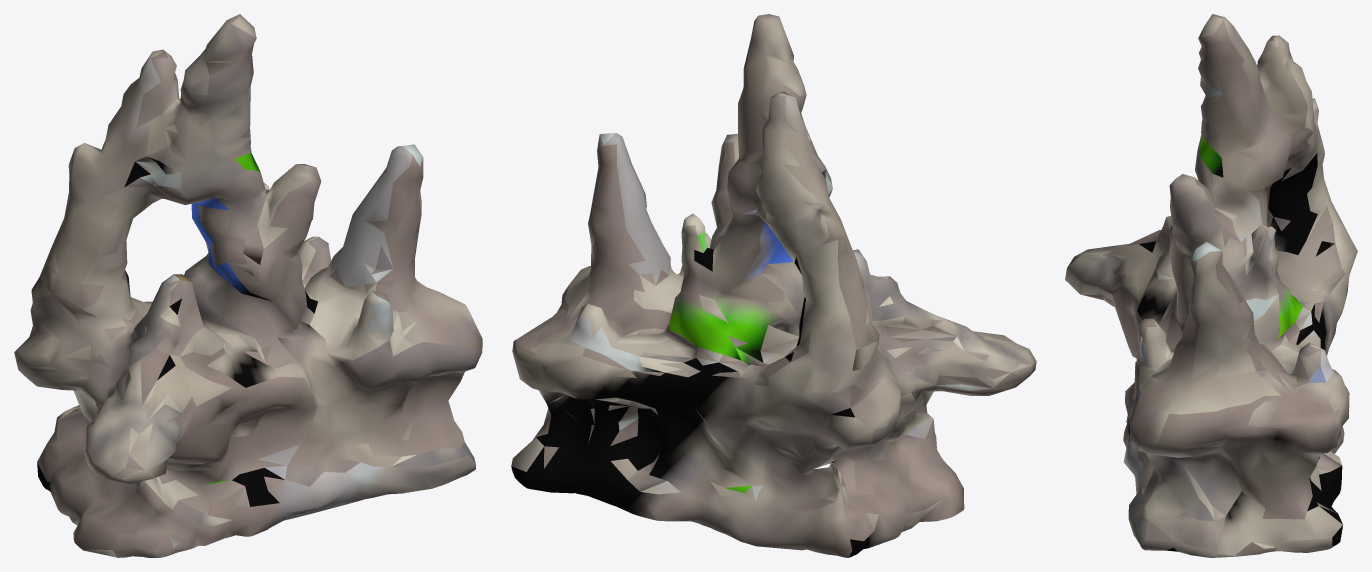
Rendered from Structure-9.fbx.
The picture shows the model from 3 angles, left to right: view 1: azimuth 30°, elevation 25°; view 2: azimuth 150°, elevation 25°; view 3: azimuth 270°, elevation 25°; orthographic projection. The views are drawn at different scales.
Visible parts, largest first — view 1: Structure-9; view 2: Structure-9; view 3: Structure-9.
Boxes of the visible parts, x1,y1,x2,y2 form: Structure-9: (14, 14, 482, 557); Structure-9: (511, 14, 1036, 557); Structure-9: (1065, 14, 1357, 557).
Bounding box in the file's own units: 2.91 × 3.13 × 1.87.
